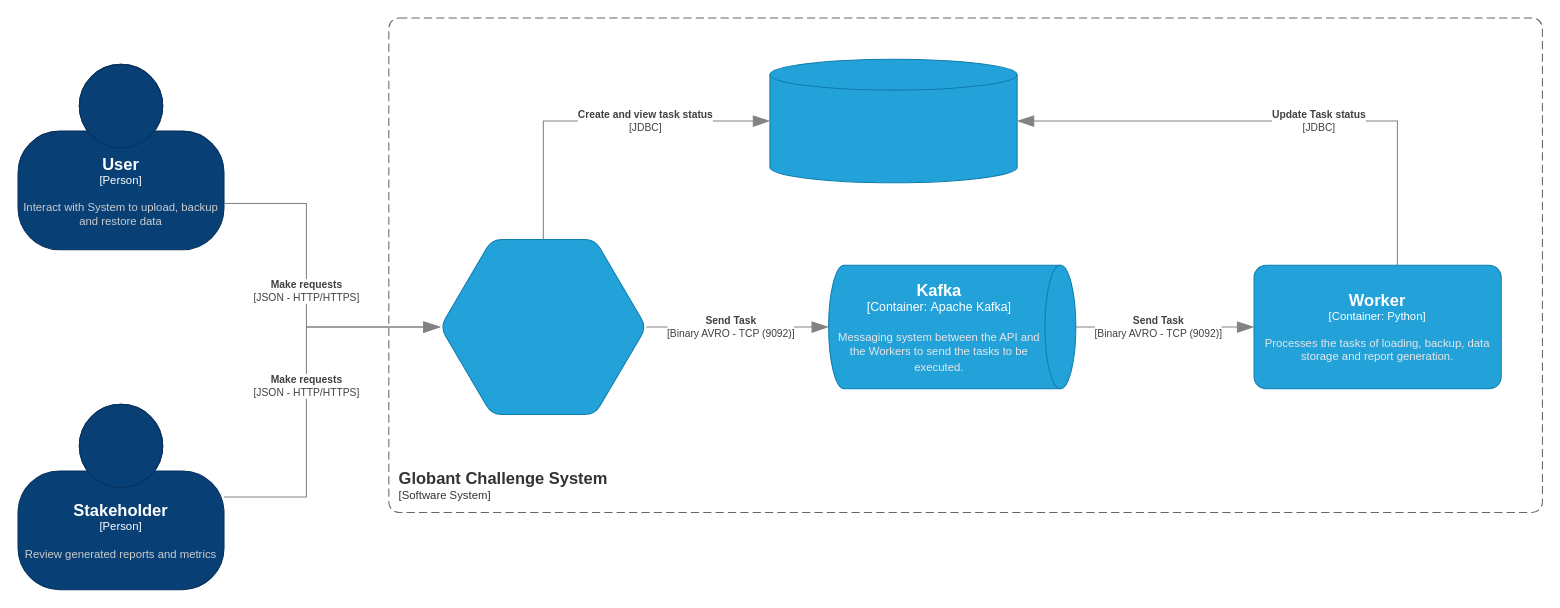
The diagram is 1560 pixels wide and 608 high, and some of its shapes have lost their labels. Each missing label, with the centre of its shape:
API [Container: Python | FastAPI] Handles user requests, status and responses.: (x=542, y=326)
Database [Container: Postgres] data storage and tracking system: (x=893, y=120)
